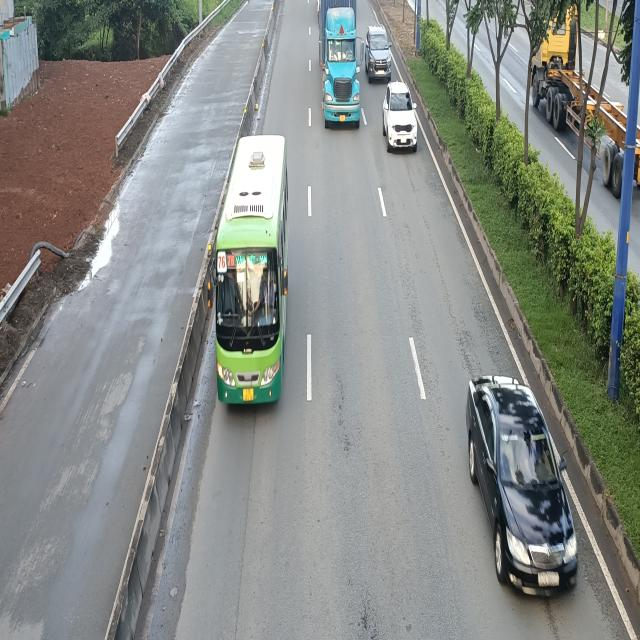car: (468, 372, 580, 598), (384, 83, 419, 153), (365, 26, 393, 82)
coach: (207, 136, 292, 408)
container: (320, 1, 364, 130)
